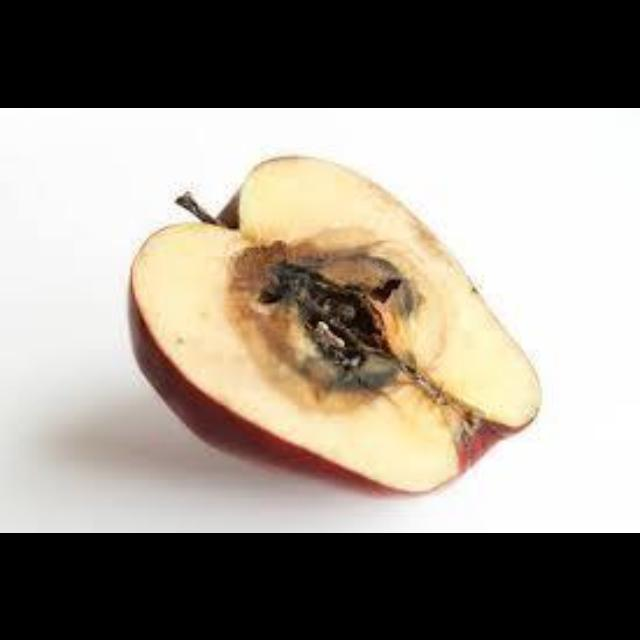apple: (130, 156, 538, 491)
rotten: (225, 235, 427, 411)
